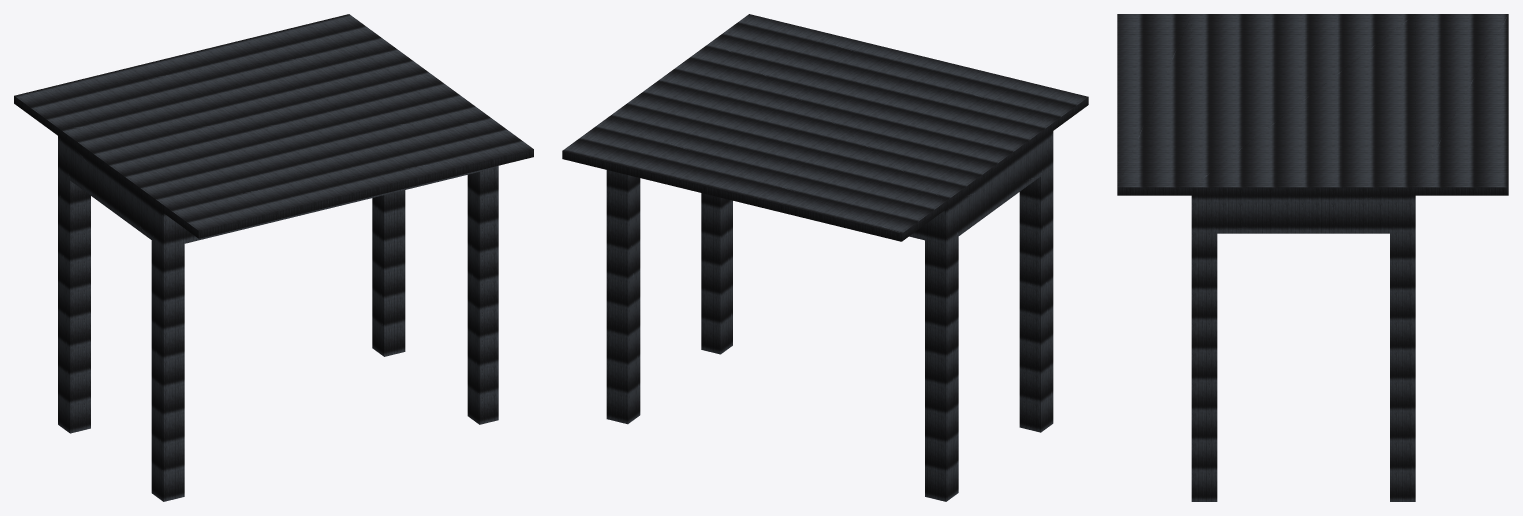
File: kitchen_table.dae
3 views of the same model, side by side, from view 1: azimuth 30°, elevation 25°; view 2: azimuth 150°, elevation 25°; view 3: azimuth 270°, elevation 25° (orthographic). The views are drawn at different scales.
Visible parts, largest first — view 1: SketchUp; view 2: SketchUp; view 3: SketchUp.
Boxes of the visible parts, x1=… form: SketchUp: x1=14, y1=14, x2=533, y2=501; SketchUp: x1=562, y1=14, x2=1088, y2=501; SketchUp: x1=1117, y1=14, x2=1508, y2=501.
Bounding box in the file's own units: 34.65 × 33.07 × 29.33.
2 materials, 1 textured.
